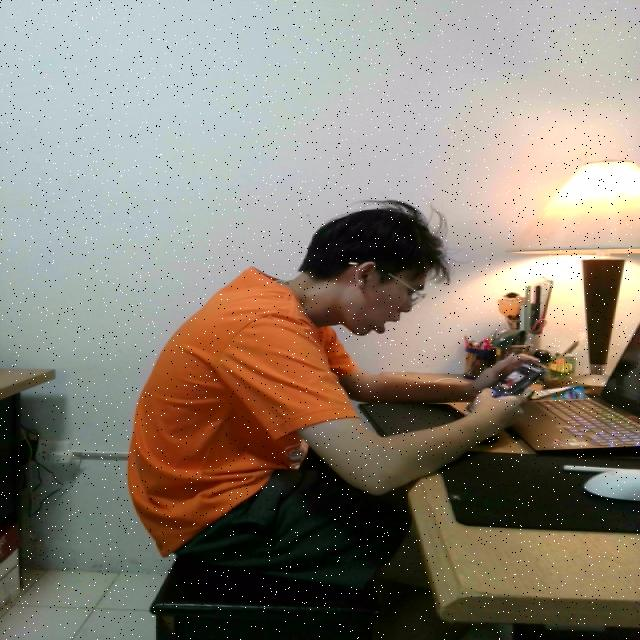Bad: (118, 199, 469, 578)
